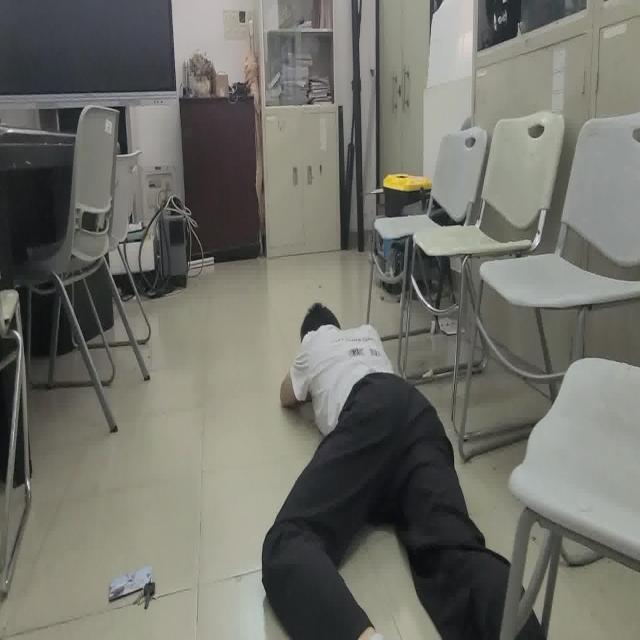Fall-Detected: (260, 296, 548, 640)
